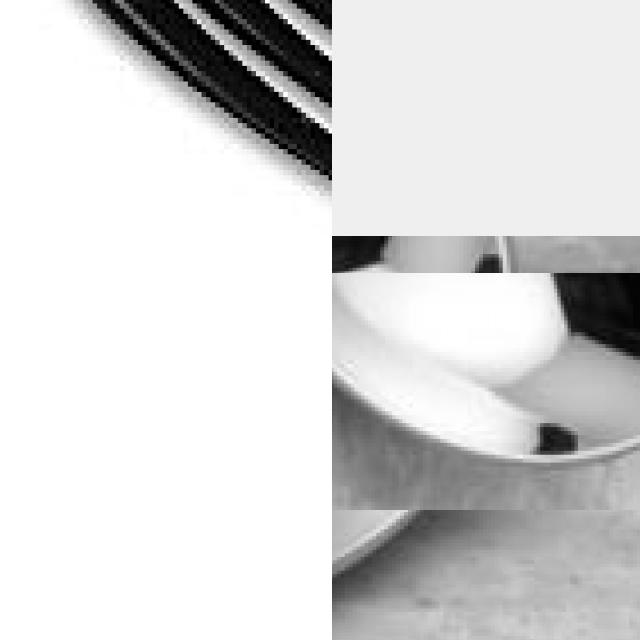forks: (0, 0, 332, 236)
spoons: (332, 236, 638, 590)
